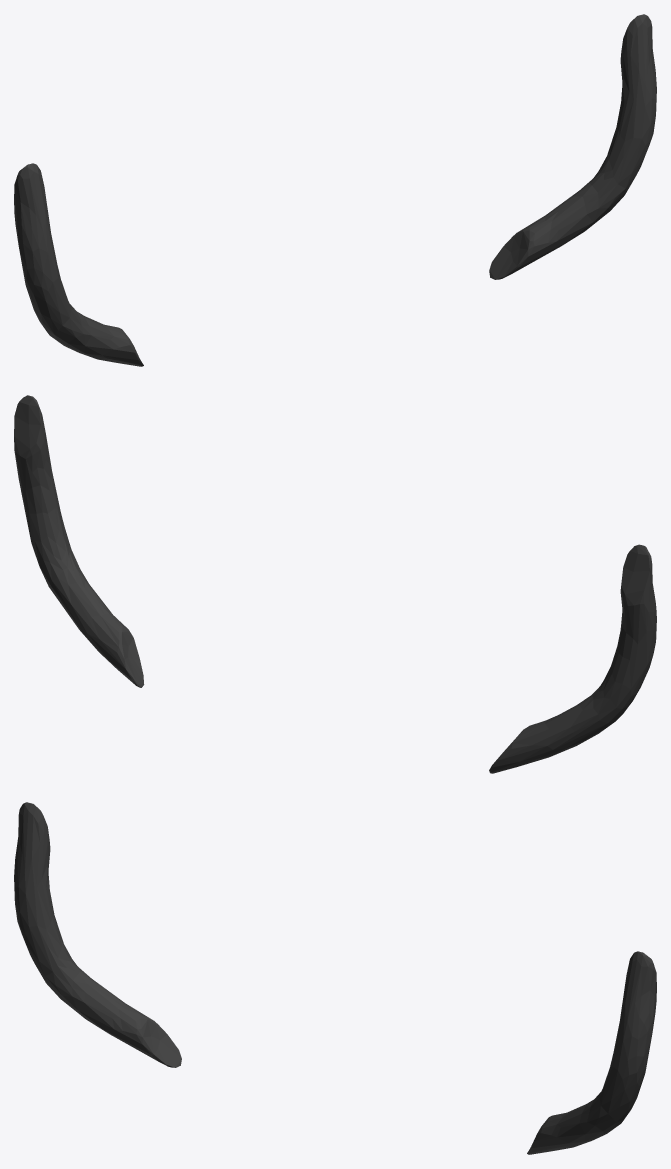
File: m_articularis_coxae.glb
The picture shows the model from 3 angles, top to bottom: view 1: azimuth 30°, elevation 25°; view 2: azimuth 150°, elevation 25°; view 3: azimuth 330°, elevation 25°; orthographic projection.
Visible parts, largest first — view 1: m_articularis_coxae; view 2: m_articularis_coxae; view 3: m_articularis_coxae.
Part boxes in pixels (bbox=[...]): m_articularis_coxae: bbox=[14, 14, 656, 366]; m_articularis_coxae: bbox=[14, 395, 656, 773]; m_articularis_coxae: bbox=[14, 802, 656, 1154].
Bounding box in the file's own units: 0.00434 × 0.00161 × 0.000418.
Materials: 1 (1 with a texture image).
